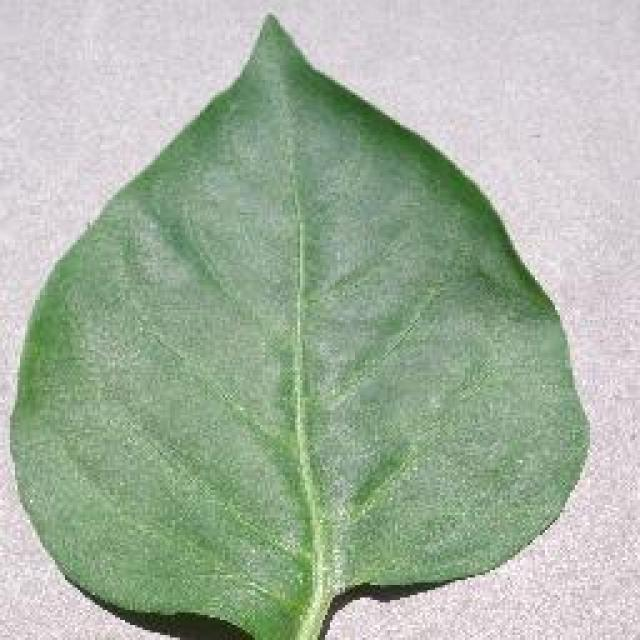Chilli_Healthy: (8, 10, 590, 638)
